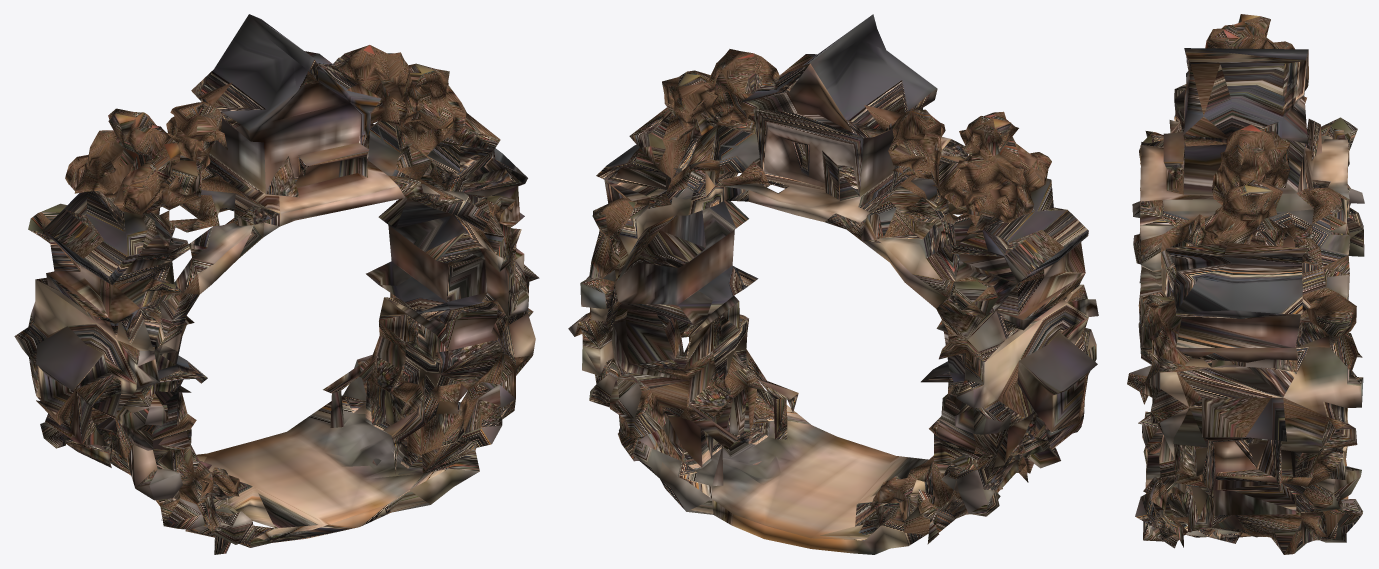
File: Ring_Village_Diorama.glb
3 views of the same model, side by side, from view 1: azimuth 30°, elevation 25°; view 2: azimuth 150°, elevation 25°; view 3: azimuth 270°, elevation 25° (orthographic). The views are drawn at different scales.
Parts seen in each view (by area): view 1: Ring_Village_Diorama; view 2: Ring_Village_Diorama; view 3: Ring_Village_Diorama.
Part boxes in pixels (x1,y1,x2,y2): Ring_Village_Diorama: (14, 14, 539, 554); Ring_Village_Diorama: (568, 14, 1098, 554); Ring_Village_Diorama: (1127, 14, 1364, 554).
Bounding box in the file's own units: 1.99 × 1.92 × 0.8941.
Materials: 1 (1 with a texture image).
